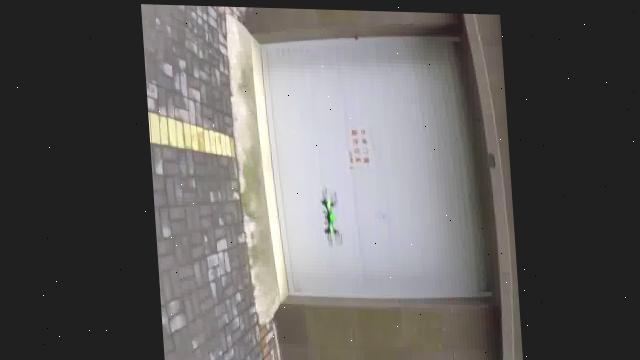drone: (312, 182, 343, 245)
